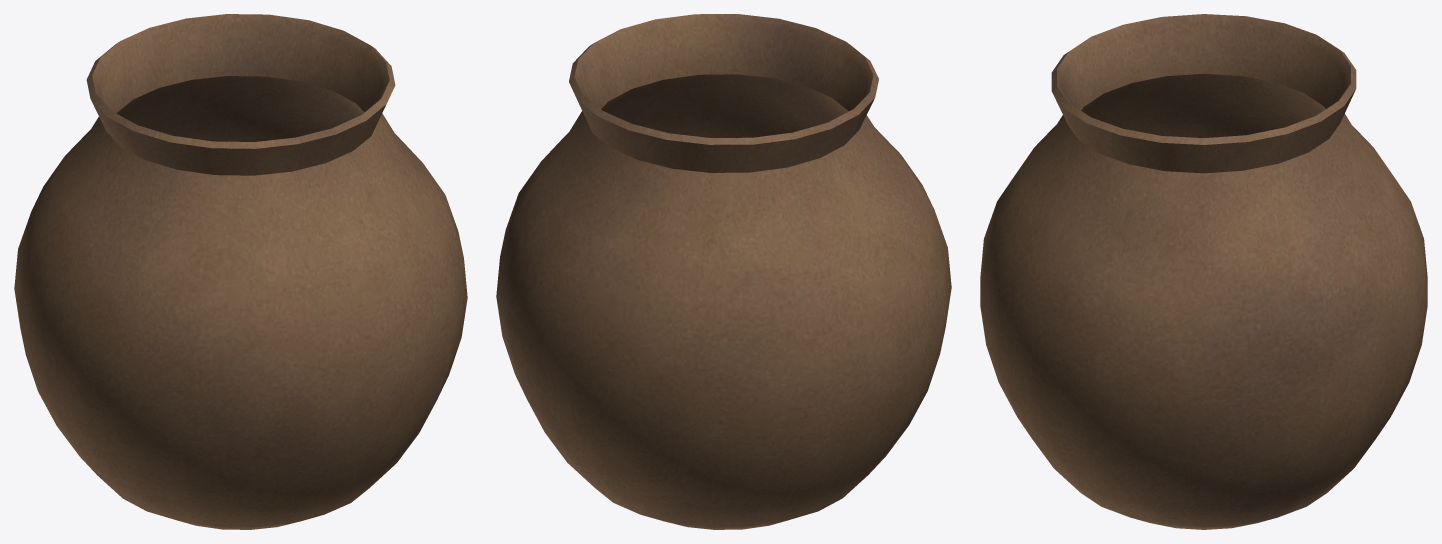
Rendered from pot_001.glb.
The picture shows the model from 3 angles, left to right: view 1: azimuth 30°, elevation 25°; view 2: azimuth 150°, elevation 25°; view 3: azimuth 270°, elevation 25°; orthographic projection.
Visible parts, largest first — view 1: POT_001; view 2: POT_001; view 3: POT_001.
Part boxes in pixels (bbox=[...]): POT_001: bbox=[14, 14, 467, 529]; POT_001: bbox=[496, 14, 951, 529]; POT_001: bbox=[980, 14, 1427, 529].
Size of the model in its own units: 0.46 by 0.46 by 0.4508.
Materials: 1 (1 with a texture image).
